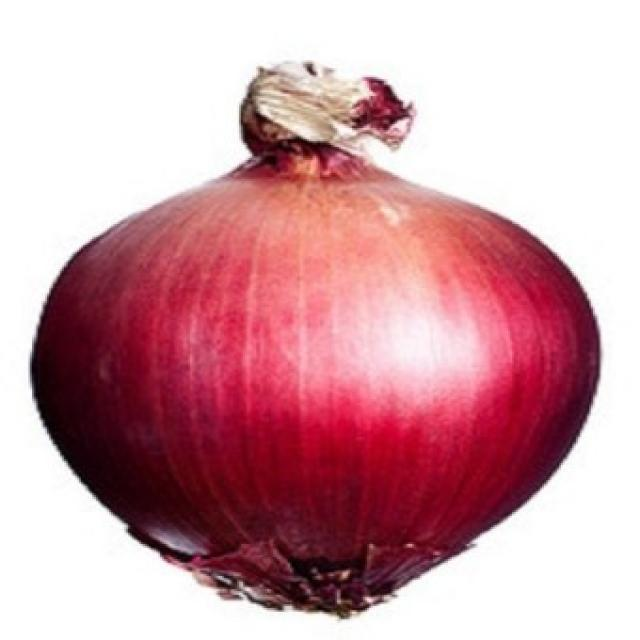Onion: (28, 62, 602, 615)
